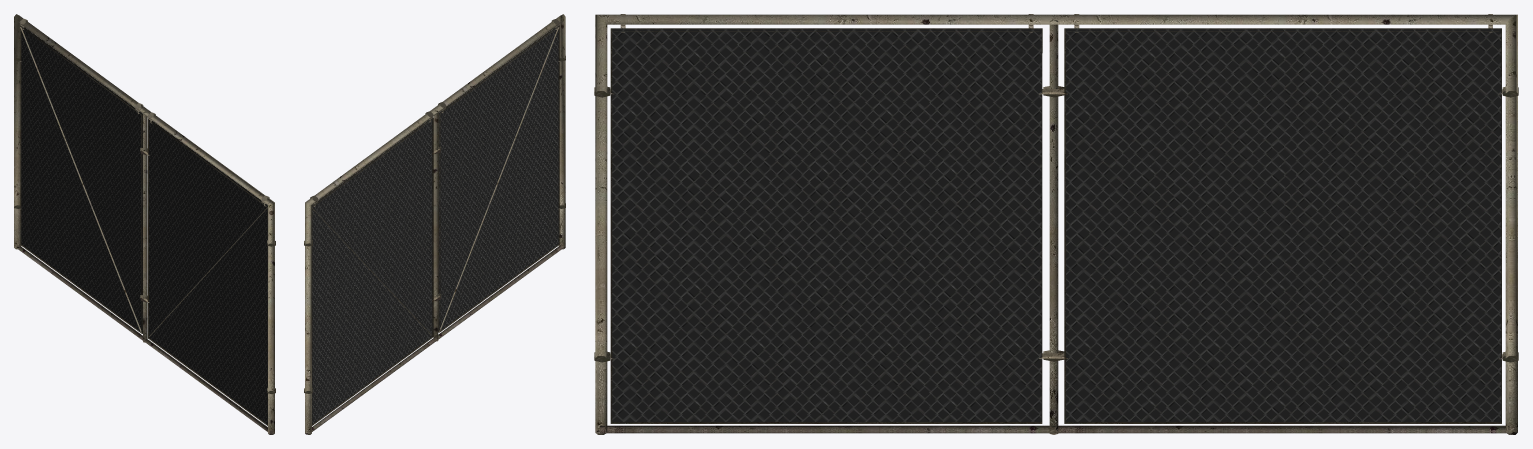
File: interior_fence002d.glb
The picture shows the model from 3 angles, left to right: view 1: azimuth 30°, elevation 25°; view 2: azimuth 150°, elevation 25°; view 3: azimuth 270°, elevation 25°; orthographic projection. The views are drawn at different scales.
Parts seen in each view (by area): view 1: 1_fence_alpha, 0_prison_yard001; view 2: 1_fence_alpha, 0_prison_yard001; view 3: 1_fence_alpha, 0_prison_yard001.
Part boxes in pixels (<box>): 1_fence_alpha: <box>21,26,267,424</box>; 0_prison_yard001: <box>14,14,275,434</box>; 1_fence_alpha: <box>312,26,558,424</box>; 0_prison_yard001: <box>304,14,565,434</box>; 1_fence_alpha: <box>612,29,1501,421</box>; 0_prison_yard001: <box>594,14,1518,434</box>.
Size of the model in its own units: 0.1356 by 3.27 by 6.53.
Materials: 2 (2 with a texture image).
